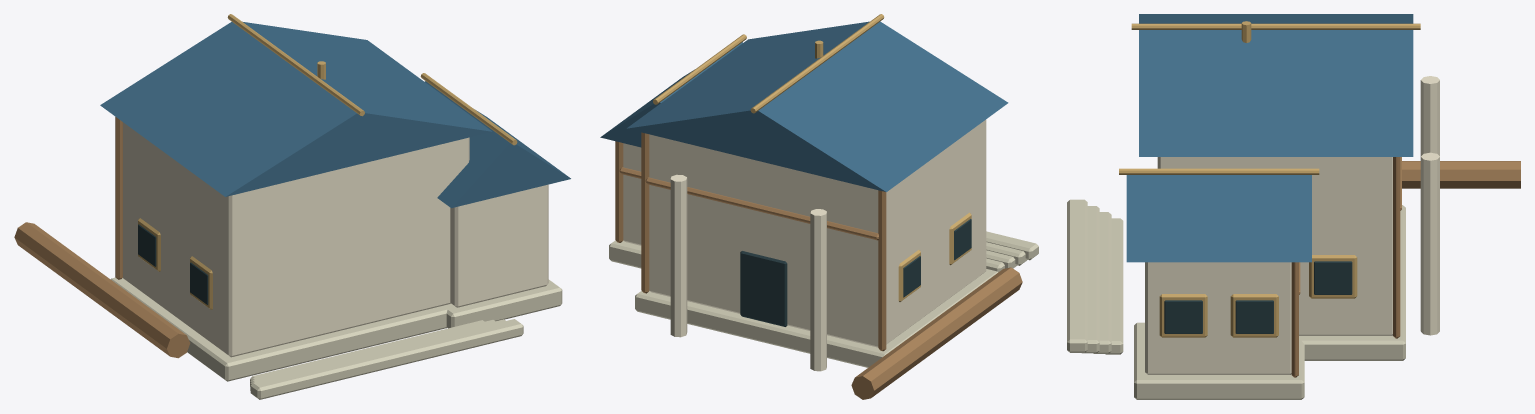
Rendered from level_27.glb.
3 views of the same model, side by side, from view 1: azimuth 30°, elevation 25°; view 2: azimuth 150°, elevation 25°; view 3: azimuth 270°, elevation 25° (orthographic). The views are drawn at different scales.
Parts seen in each view (by area): view 1: timber_yard — level 27; view 2: timber_yard — level 27; view 3: timber_yard — level 27.
Part boxes in pixels (x1,y1,x2,y2): timber_yard — level 27: (14,14,570,399); timber_yard — level 27: (600,14,1038,399); timber_yard — level 27: (1067,14,1520,399).
Bounding box in the file's own units: 6.43 × 4.11 × 6.12.
